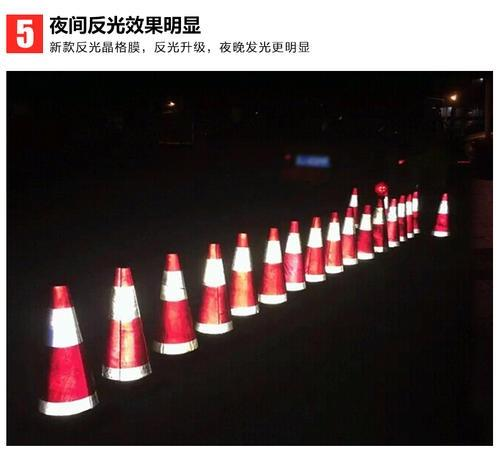cone_barrel: (30, 282, 101, 430), (95, 266, 158, 393), (147, 258, 199, 362), (192, 241, 233, 340), (226, 233, 258, 317), (256, 227, 287, 311), (282, 220, 305, 290), (303, 213, 325, 283), (429, 191, 453, 241), (323, 212, 342, 273), (339, 205, 356, 266), (355, 200, 372, 258), (370, 199, 384, 250), (385, 199, 398, 246), (395, 195, 404, 240)
